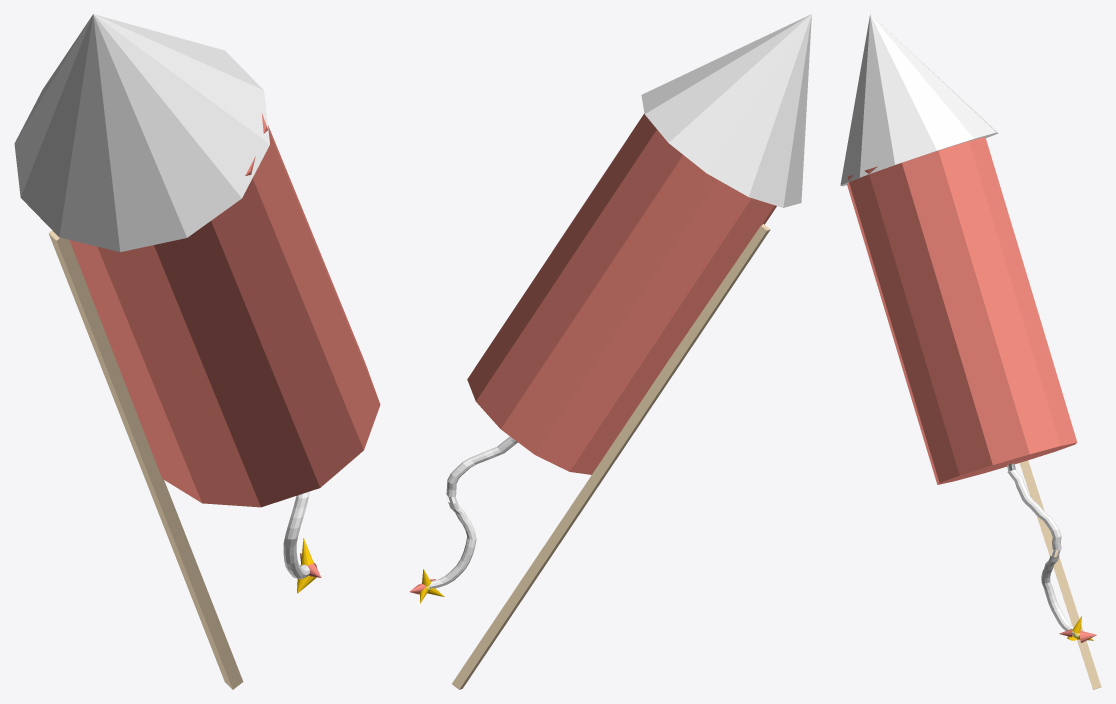
The picture shows the model from 3 angles, left to right: view 1: azimuth 30°, elevation 25°; view 2: azimuth 150°, elevation 25°; view 3: azimuth 270°, elevation 25°; orthographic projection. The views are drawn at different scales.
Parts seen in each view (by area): view 1: Node; view 2: Node; view 3: Node.
Boxes of the visible parts, <box> form: Node: <box>14,14,380,689</box>; Node: <box>409,14,811,689</box>; Node: <box>840,14,1101,689</box>.
Size of the model in its own units: 0.6818 by 1.42 by 0.5845.
